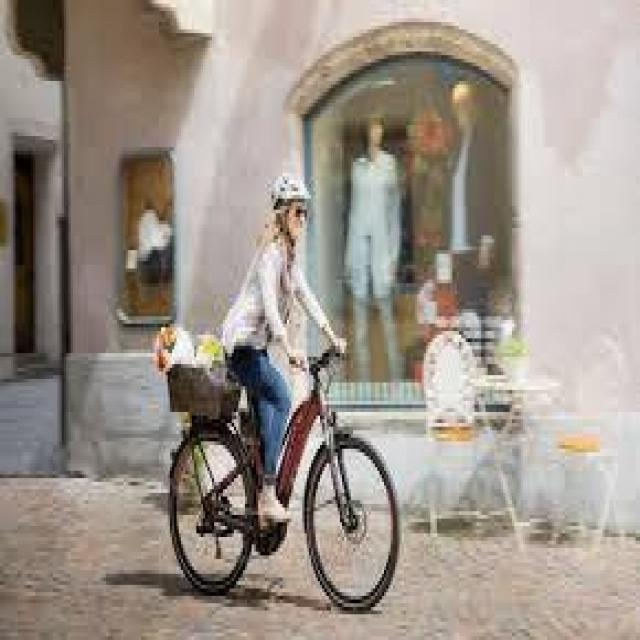bicycle: (165, 325, 401, 612)
